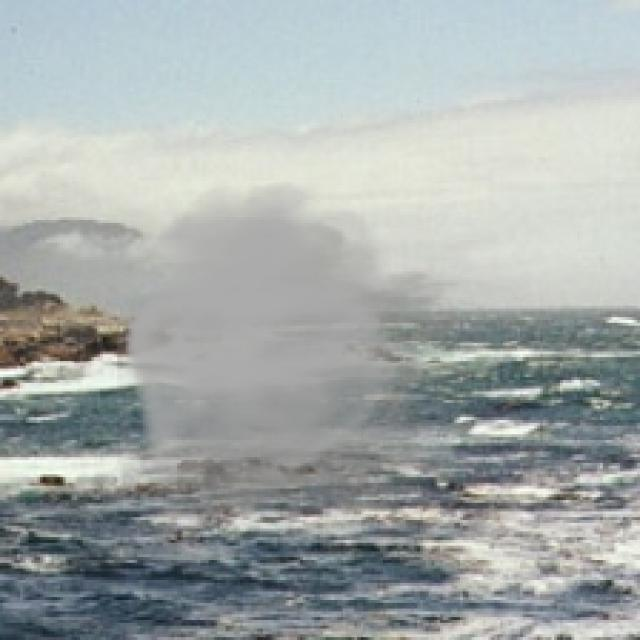smoke: (117, 180, 494, 540)
